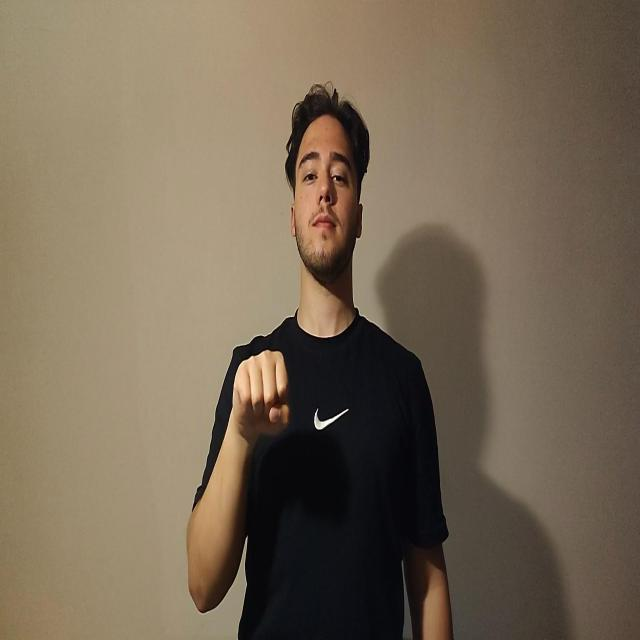yes: (231, 348, 290, 447)
